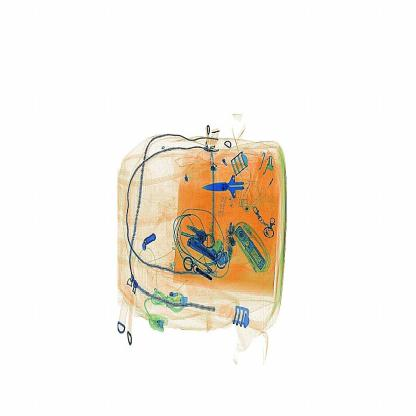gun: (197, 158, 256, 214)
